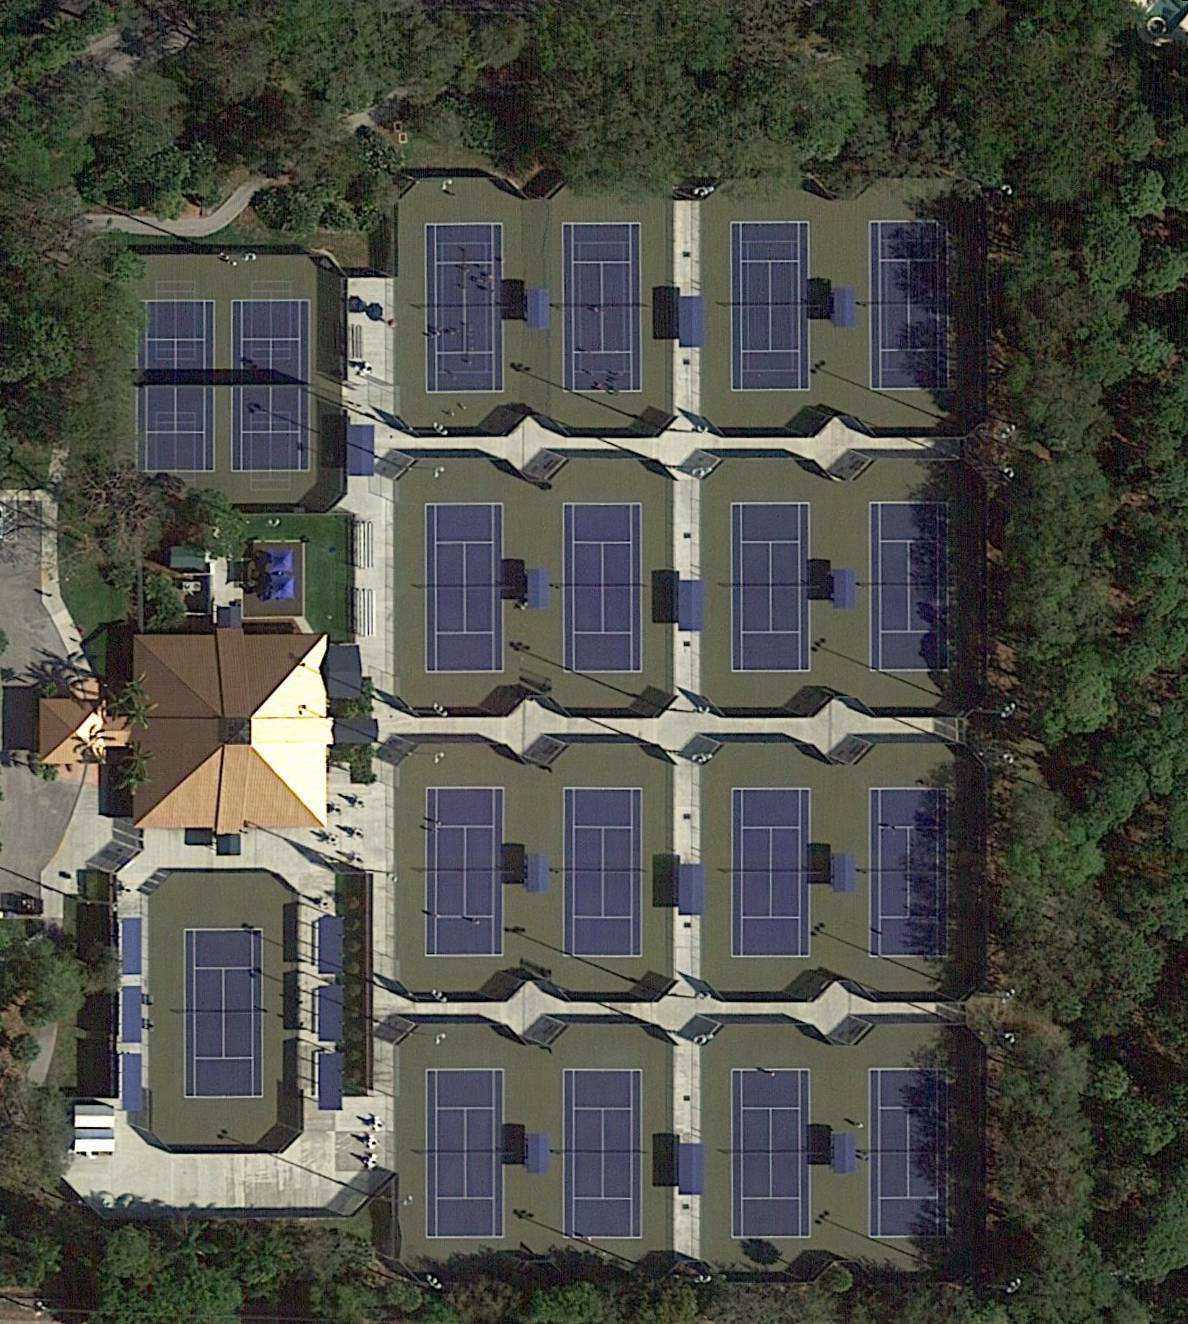tennis court: (560, 222, 643, 394), (870, 501, 953, 672), (183, 929, 265, 1100), (136, 299, 217, 473), (869, 220, 951, 390), (730, 502, 812, 672), (869, 788, 949, 959), (562, 504, 643, 673), (425, 789, 507, 957), (730, 224, 812, 392), (562, 1070, 643, 1238), (730, 1070, 812, 1238), (425, 1070, 506, 1240), (424, 224, 505, 393), (563, 789, 643, 957), (232, 300, 311, 471), (425, 503, 505, 674), (732, 788, 811, 958), (870, 1070, 949, 1239)
